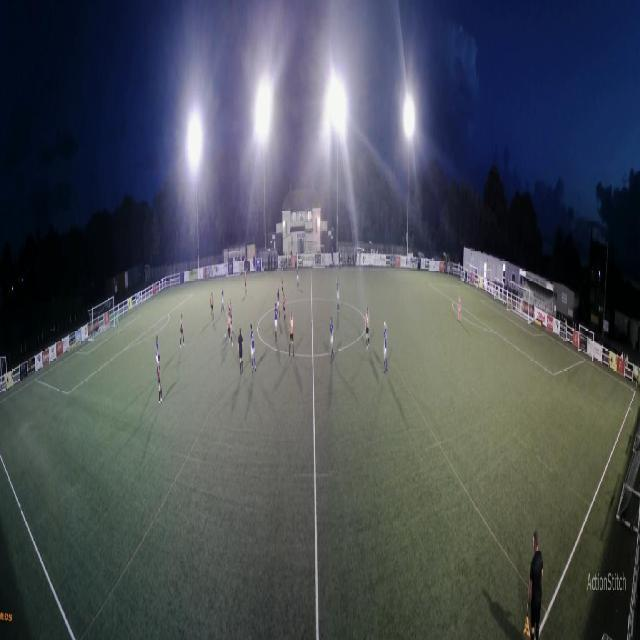ball: (224, 333, 226, 340)
player: (250, 323, 256, 373), (157, 356, 163, 404), (238, 328, 244, 375), (288, 310, 294, 357), (383, 320, 388, 374), (365, 306, 370, 350), (179, 313, 185, 349), (227, 312, 233, 347), (330, 317, 334, 364), (274, 303, 278, 343), (336, 277, 340, 314), (156, 335, 159, 377), (210, 290, 214, 321), (282, 291, 286, 322), (276, 288, 280, 319), (457, 293, 461, 323), (221, 286, 225, 314), (228, 298, 232, 326), (296, 266, 300, 290), (116, 311, 120, 333), (244, 271, 247, 297), (282, 269, 284, 294)
